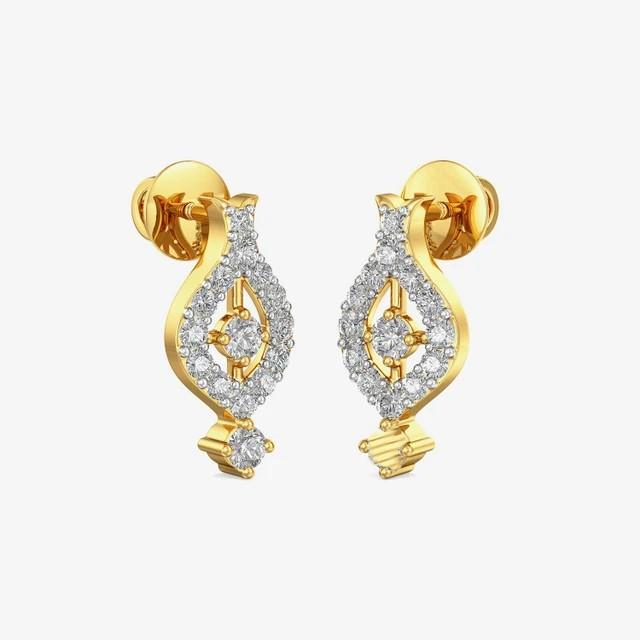missing gem: (366, 426, 409, 471)
